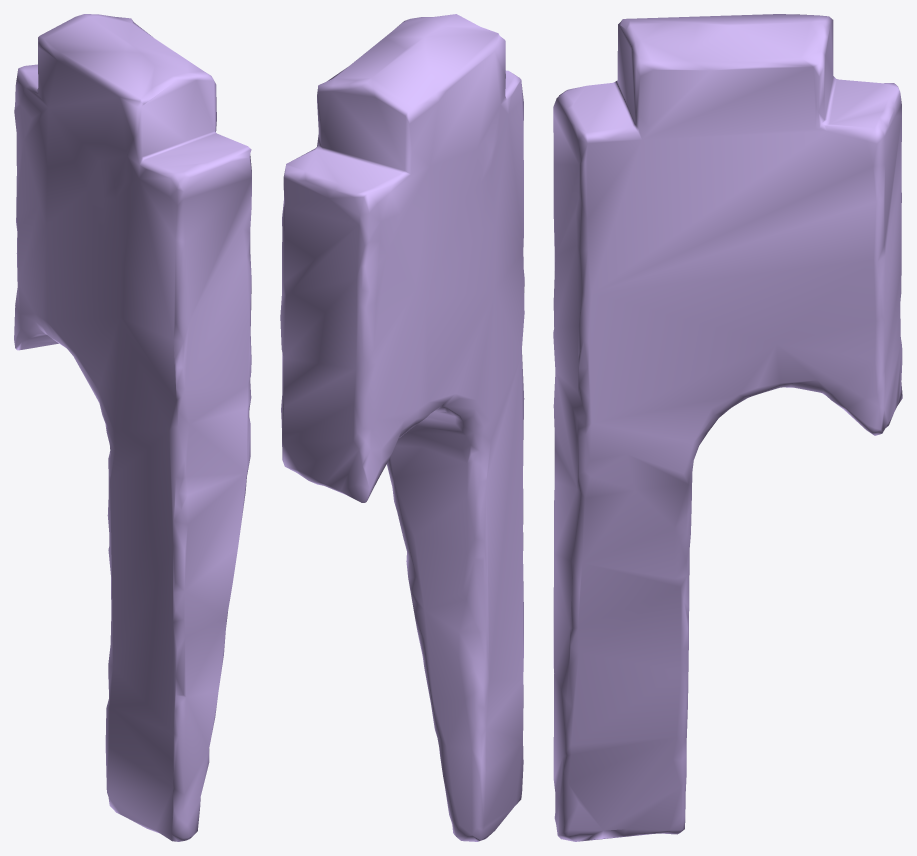
The model's file is krangstein_l_ver1_LOD1.fbx.
The picture shows the model from 3 angles, left to right: view 1: azimuth 30°, elevation 25°; view 2: azimuth 150°, elevation 25°; view 3: azimuth 270°, elevation 25°; orthographic projection. The views are drawn at different scales.
Parts seen in each view (by area): view 1: Cube_064lod1; view 2: Cube_064lod1; view 3: Cube_064lod1.
Boxes of the visible parts, x1=… form: Cube_064lod1: x1=14, y1=14, x2=251, y2=841; Cube_064lod1: x1=280, y1=14, x2=524, y2=841; Cube_064lod1: x1=553, y1=14, x2=902, y2=841.
Size of the model in its own units: 28.66 by 186 by 71.51.
